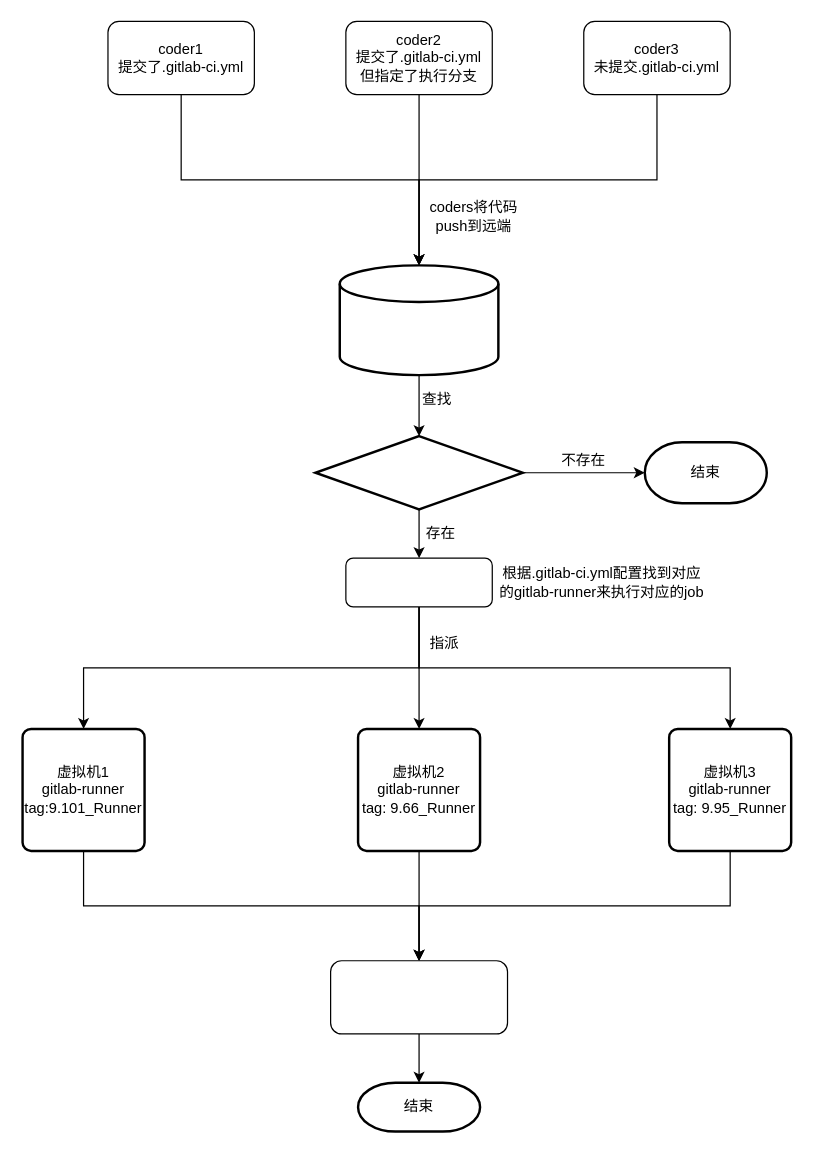
This 813x1154 diagram has some shape labels left out. Each missing label, with the centre of its shape:
.gitlab-ci.yml: (418,472)
Gitlab-CI: (418,582)
Gitlab远端仓储: (418,320)
Pipeline中所有jobs完成: (418,997)
